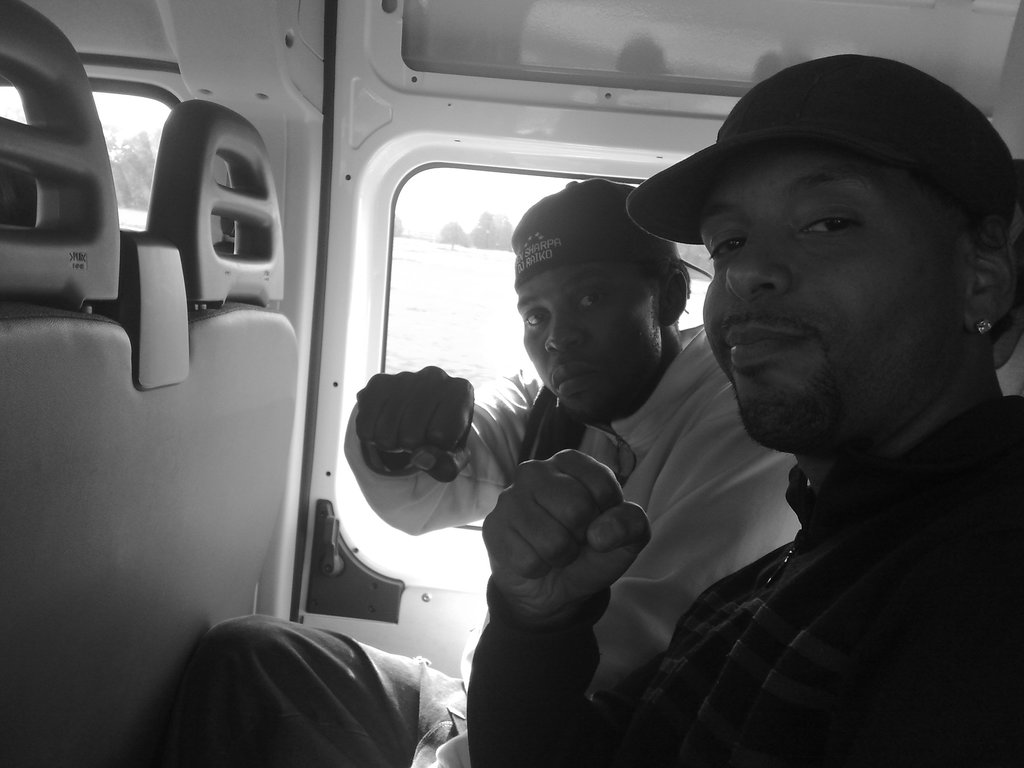Human_hand: (485, 436, 657, 649), (357, 363, 477, 484)
